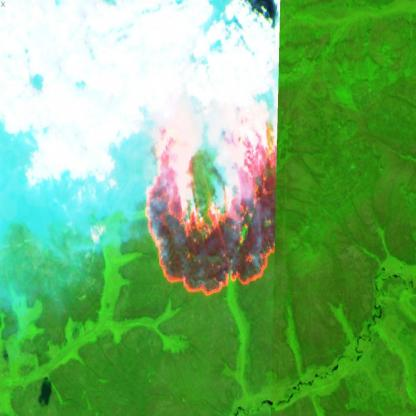fire: (142, 86, 282, 301)
